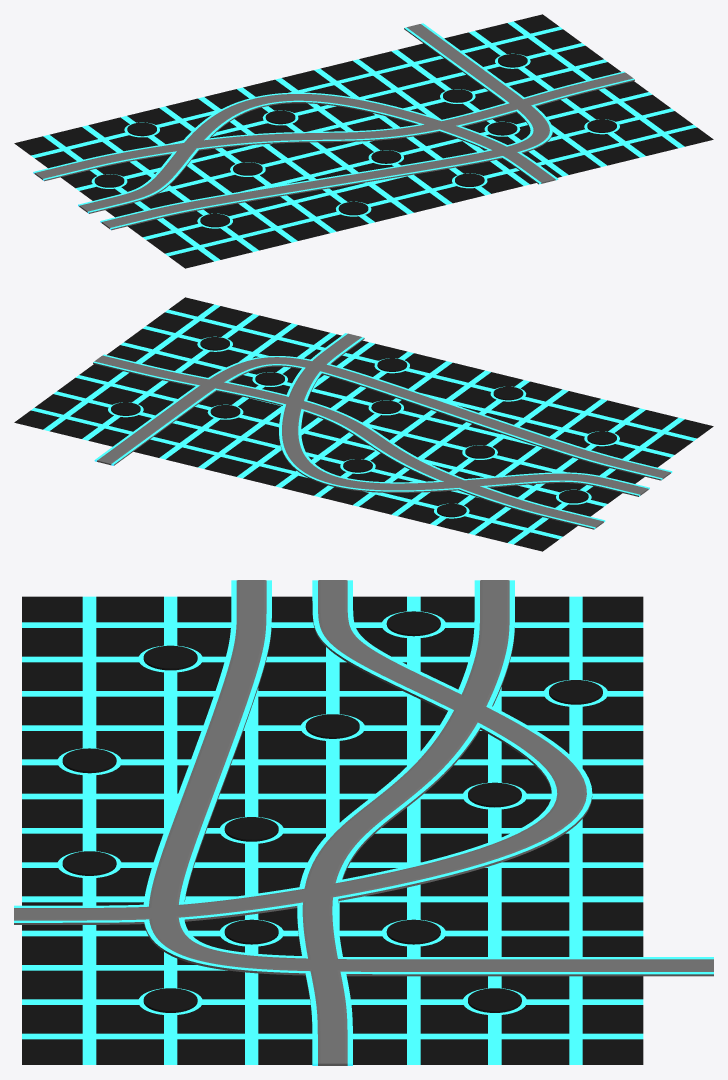
Rendered from levelinf.fbx.
3 renders of one model, top to bottom at view 1: azimuth 30°, elevation 25°; view 2: azimuth 150°, elevation 25°; view 3: azimuth 270°, elevation 25°, orthographic. The views are drawn at different scales.
Parts seen in each view (by area): view 1: Field, Plane.003, Plane.001, Plane.002; view 2: Field, Plane.003, Plane.001, Plane.002; view 3: Field, Plane.003, Plane.001, Plane.002, Cylinder.009, Cylinder.006, Cylinder.007, Cylinder.011, Cylinder.003, Cylinder.005, Cylinder.008, Cylinder.010 (+4 smaller).
Part boxes in pixels (<box>): Field: <box>14,14,713,268</box>; Plane.003: <box>100,23,552,230</box>; Plane.001: <box>78,92,558,213</box>; Plane.002: <box>33,71,634,181</box>; Field: <box>14,297,713,551</box>; Plane.003: <box>94,356,672,480</box>; Plane.001: <box>279,333,649,496</box>; Plane.002: <box>93,354,605,529</box>; Field: <box>22,596,643,1064</box>; Plane.003: <box>143,580,713,976</box>; Plane.001: <box>14,580,592,924</box>; Plane.002: <box>297,580,514,1065</box>; Cylinder.009: <box>62,748,116,773</box>; Cylinder.006: <box>62,851,116,875</box>; Cylinder.007: <box>224,919,278,944</box>; Cylinder.011: <box>143,645,197,670</box>; Cylinder.003: <box>386,611,440,636</box>; Cylinder.005: <box>468,782,521,807</box>; Cylinder.008: <box>143,988,197,1012</box>; Cylinder.010: <box>386,919,440,944</box>.
Bounding box in the file's own units: 4234 × 20 × 2591.
